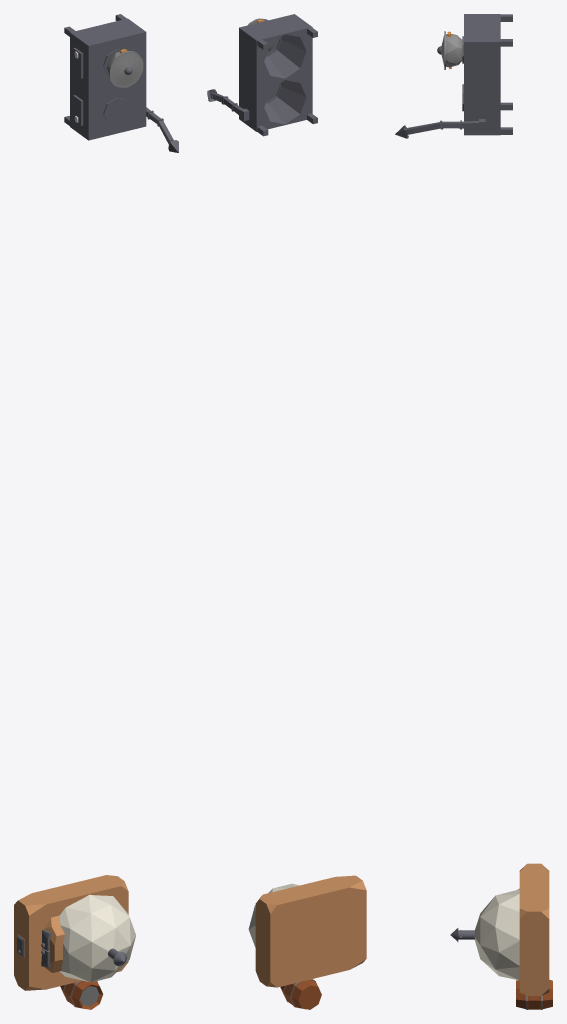
The model's file is Popcorn_Pot.fbx.
3 renders of one model, left to right at view 1: azimuth 30°, elevation 25°; view 2: azimuth 210°, elevation 25°; view 3: azimuth 270°, elevation 25°, orthographic. The views are drawn at different scales.
Parts seen in each view (by area): view 1: Icosphere, Cube, Icosphere.004, Cylinder; view 2: Icosphere, Cube, Cylinder, Cube.001; view 3: Icosphere, Cube, Icosphere.004, Cylinder, Cube.001.
Part boxes in pixels (x1,y1,x2,y2): Icosphere: (14, 875, 135, 990); Cube: (70, 18, 178, 152); Icosphere.004: (106, 49, 143, 87); Cylinder: (60, 980, 103, 1009); Icosphere: (248, 875, 366, 987); Cube: (207, 14, 312, 131); Cylinder: (280, 979, 321, 1009); Cube.001: (257, 27, 317, 136); Icosphere: (474, 863, 549, 995); Cube: (395, 14, 500, 138); Icosphere.004: (441, 31, 462, 69); Cylinder: (516, 980, 552, 1009); Cube.001: (500, 14, 512, 134).
Bounding box in the file's own units: 259 × 2378 × 347.
